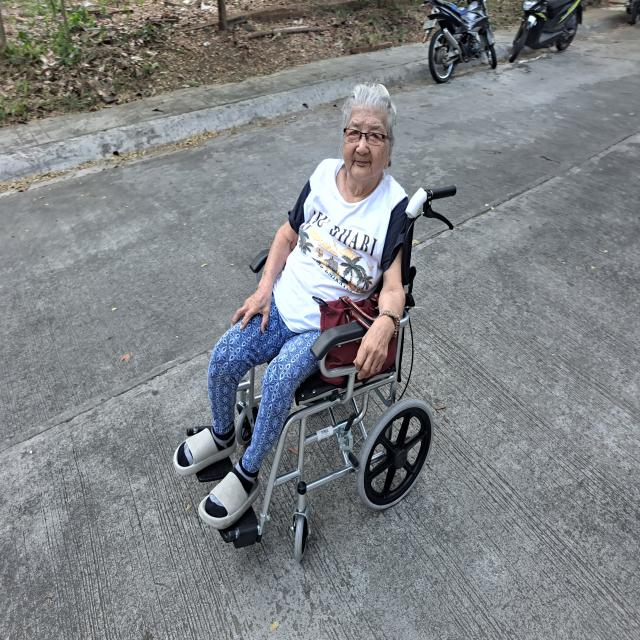wheelchairs: (181, 178, 470, 560)
